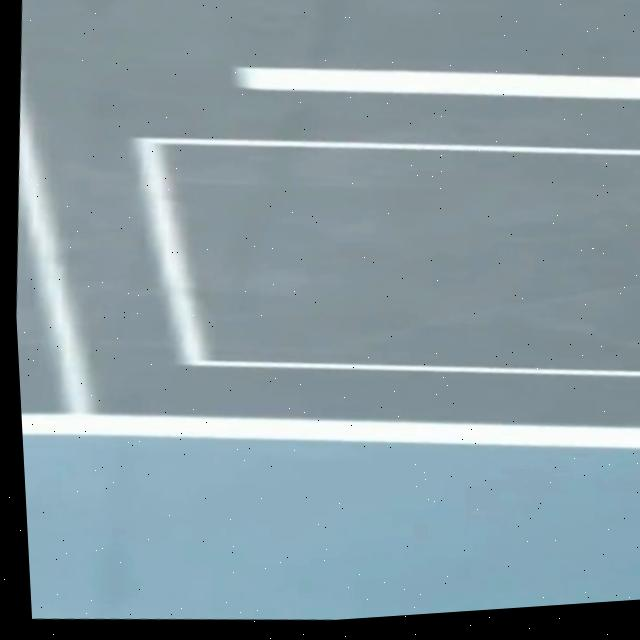center: (235, 68, 640, 98)
left: (21, 413, 640, 447)
